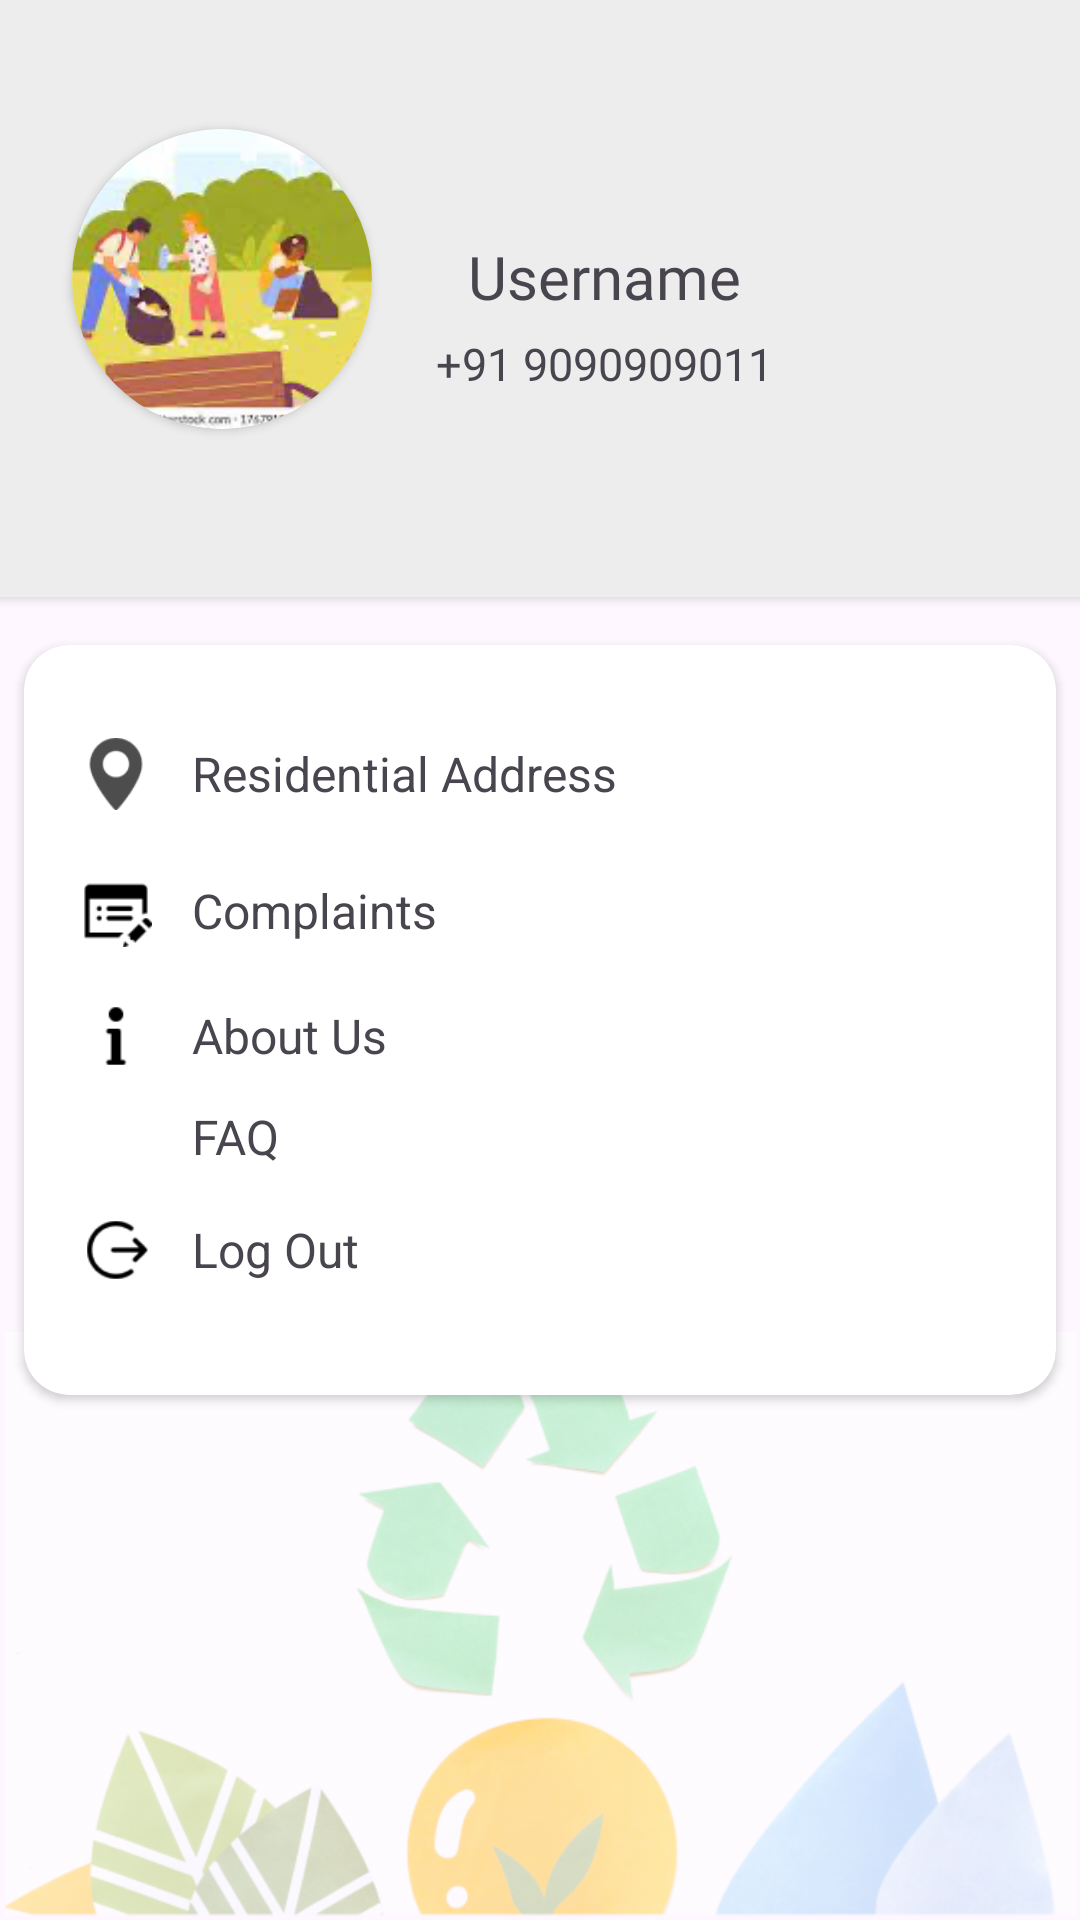

Icon click points for this 1080 x 1920 phone screenshot, format point (x, y):
locationicon: point (116, 774)
